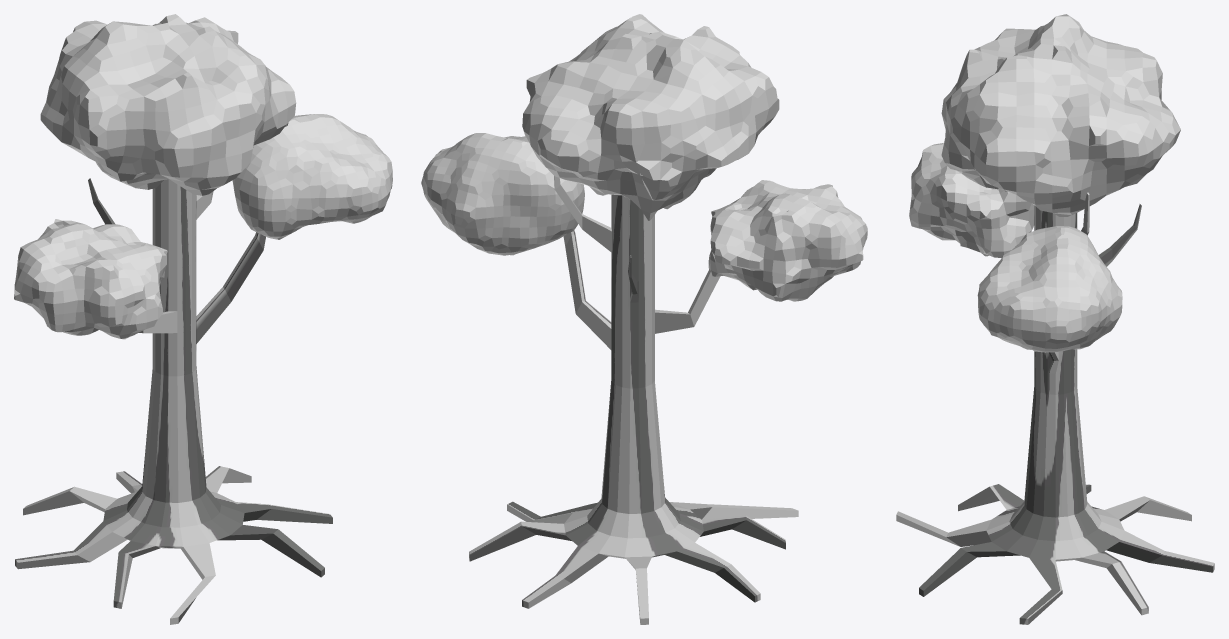
Rendered from Arbol_Shaded.glb.
The picture shows the model from 3 angles, left to right: view 1: azimuth 30°, elevation 25°; view 2: azimuth 150°, elevation 25°; view 3: azimuth 270°, elevation 25°; orthographic projection. The views are drawn at different scales.
Parts seen in each view (by area): view 1: Arbol_Hojas_001, Arbol_Tronco_001; view 2: Arbol_Hojas_001, Arbol_Tronco_001; view 3: Arbol_Hojas_001, Arbol_Tronco_001.
Part boxes in pixels (box(x1,y1,x2,y2)): Arbol_Hojas_001: box(14, 14, 392, 339); Arbol_Tronco_001: box(15, 178, 332, 624); Arbol_Hojas_001: box(421, 14, 867, 301); Arbol_Tronco_001: box(469, 176, 798, 624); Arbol_Hojas_001: box(909, 14, 1180, 352); Arbol_Tronco_001: box(896, 192, 1214, 624).
Size of the model in its own units: 24.14 by 30.7 by 17.05.
Materials: 2 (1 with a texture image).
